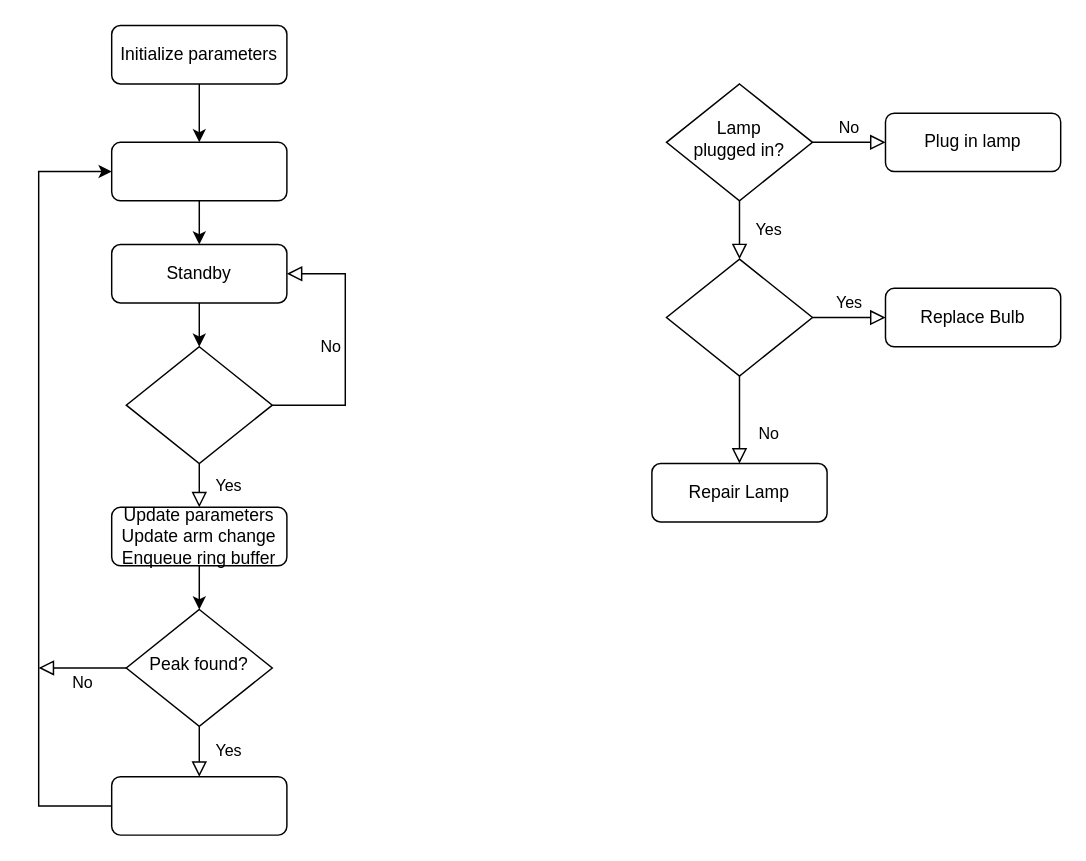
The diagram is 1086 pixels wide and 861 high, and some of its shapes have lost their labels. Each missing label, with the box of its shape:
Bulb burned out?: (665, 258, 812, 376)
Draw: (110, 141, 287, 201)
Increment ring counter: (110, 775, 287, 835)
Slider Changed?: (125, 345, 272, 464)
